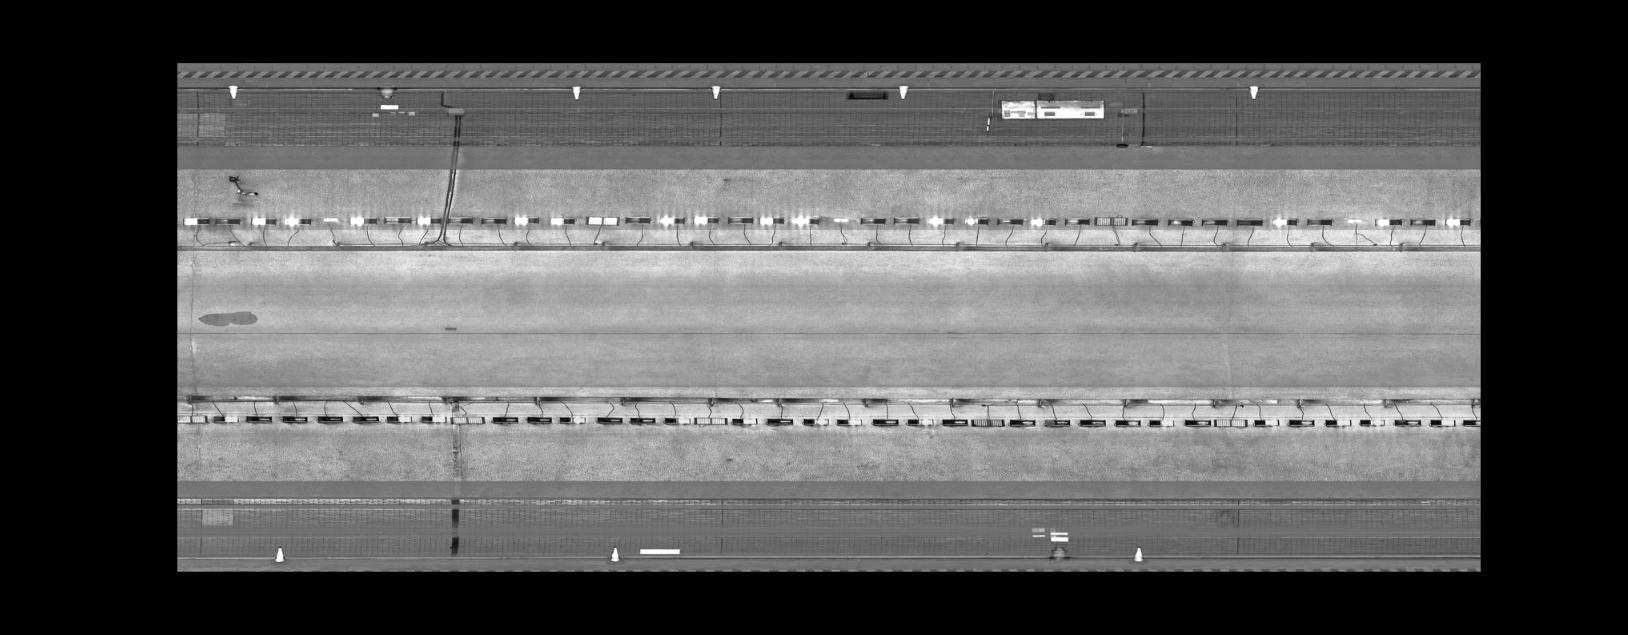light: (584, 213, 622, 228), (447, 412, 487, 426), (1093, 213, 1130, 228), (790, 212, 822, 228), (1211, 415, 1249, 429), (691, 414, 729, 427), (967, 415, 1007, 427), (510, 213, 542, 228), (544, 213, 576, 228), (178, 411, 210, 426), (657, 212, 688, 227), (1371, 214, 1406, 227), (1128, 215, 1162, 228), (1163, 215, 1197, 228), (281, 214, 313, 228), (756, 213, 787, 227), (1443, 214, 1472, 229), (1250, 415, 1283, 429), (413, 212, 445, 225), (724, 213, 756, 226), (1199, 215, 1231, 228), (1268, 215, 1300, 228), (1302, 215, 1334, 228), (729, 413, 761, 426), (764, 414, 796, 427), (208, 412, 242, 424), (926, 214, 957, 227), (1061, 214, 1092, 227), (1234, 215, 1266, 228), (801, 414, 832, 427), (1077, 415, 1108, 429), (1145, 415, 1176, 429), (347, 213, 380, 225), (380, 213, 413, 225), (489, 413, 522, 425), (523, 413, 557, 425), (594, 413, 627, 425), (903, 415, 937, 427), (1391, 416, 1424, 429), (1427, 416, 1460, 429), (623, 213, 653, 226), (1028, 215, 1058, 228), (557, 413, 589, 425), (1322, 415, 1354, 427), (313, 413, 347, 424), (857, 214, 888, 226), (1408, 216, 1439, 228), (350, 413, 381, 425), (384, 413, 415, 425), (1041, 416, 1073, 429), (1182, 416, 1213, 429), (210, 215, 243, 226), (242, 413, 275, 424), (691, 213, 720, 226), (891, 214, 921, 226), (180, 215, 212, 226), (247, 215, 279, 226), (833, 416, 865, 427), (869, 416, 901, 427), (961, 214, 991, 226), (1113, 416, 1142, 429), (1286, 416, 1315, 429), (478, 214, 509, 225), (279, 413, 310, 424), (939, 416, 970, 427), (1006, 417, 1040, 427), (1356, 416, 1387, 427), (995, 215, 1025, 226), (628, 414, 658, 425), (418, 413, 447, 424), (662, 414, 691, 425), (445, 215, 477, 225), (1344, 216, 1366, 225), (1461, 415, 1480, 426), (319, 214, 340, 221), (831, 216, 851, 223)
